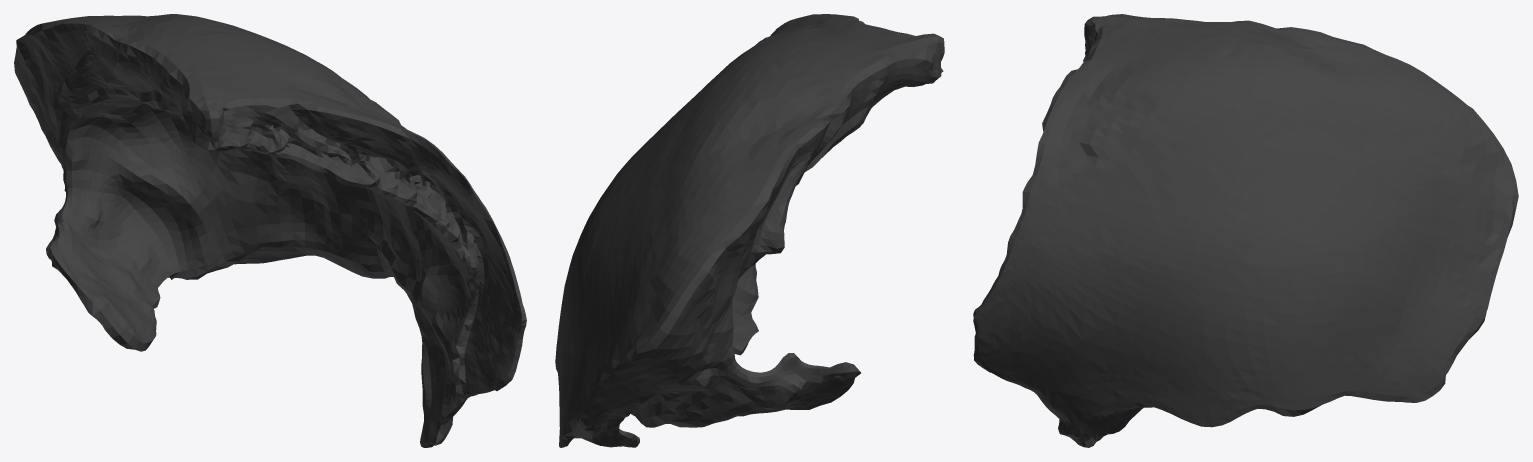
The model's file is Parietal_L.glb.
3 renders of one model, left to right at view 1: azimuth 30°, elevation 25°; view 2: azimuth 150°, elevation 25°; view 3: azimuth 270°, elevation 25°, orthographic. The views are drawn at different scales.
Visible parts, largest first — view 1: Parietal_L; view 2: Parietal_L; view 3: Parietal_L.
Part boxes in pixels (x1,y1,x2,y2): Parietal_L: [14, 14, 526, 447]; Parietal_L: [555, 14, 944, 447]; Parietal_L: [973, 14, 1518, 447].
Size of the model in its own units: 204 by 245 by 354.
Materials: 1 (1 with a texture image).
